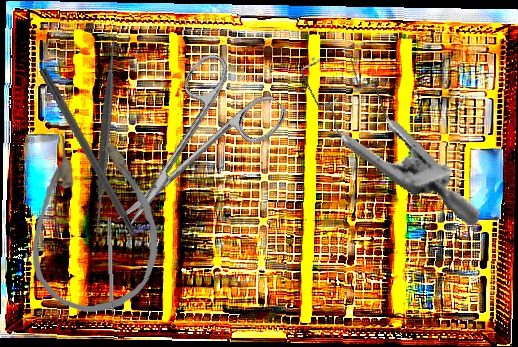Cannula: (27, 129, 161, 314)
Hook Surgical: (37, 67, 157, 270), (105, 217, 116, 331)
Iris Scissors: (81, 43, 292, 257)
Spatula Surgical: (3, 29, 209, 237)
Speculum: (273, 29, 515, 227)
